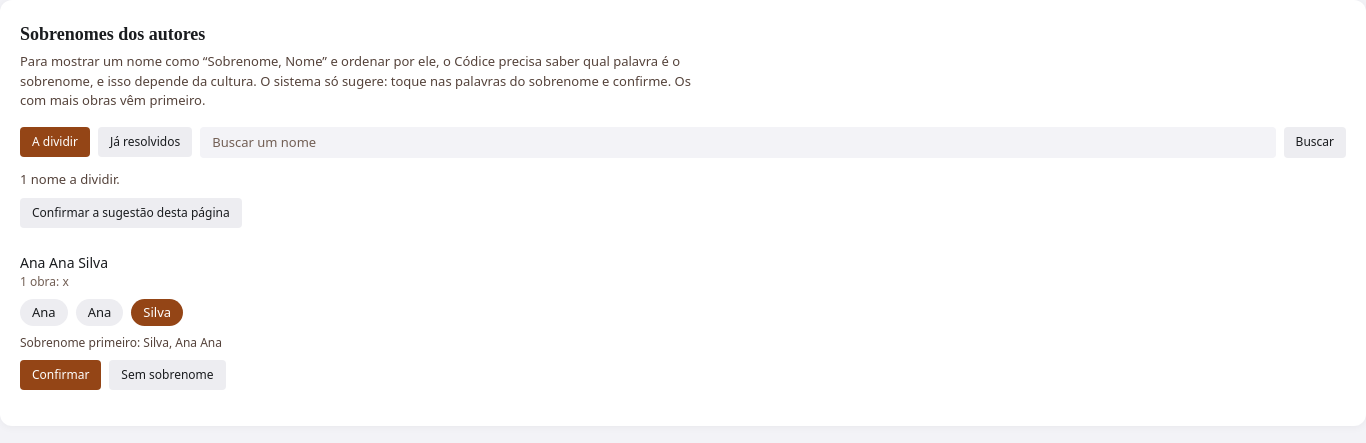
Test case: PersonNames: the names to divide › tells apart two equal words of a name by their place
The image size is (1366, 443).
Click the 2nd button "Ana" at (99, 312), box [76,298,123,326]
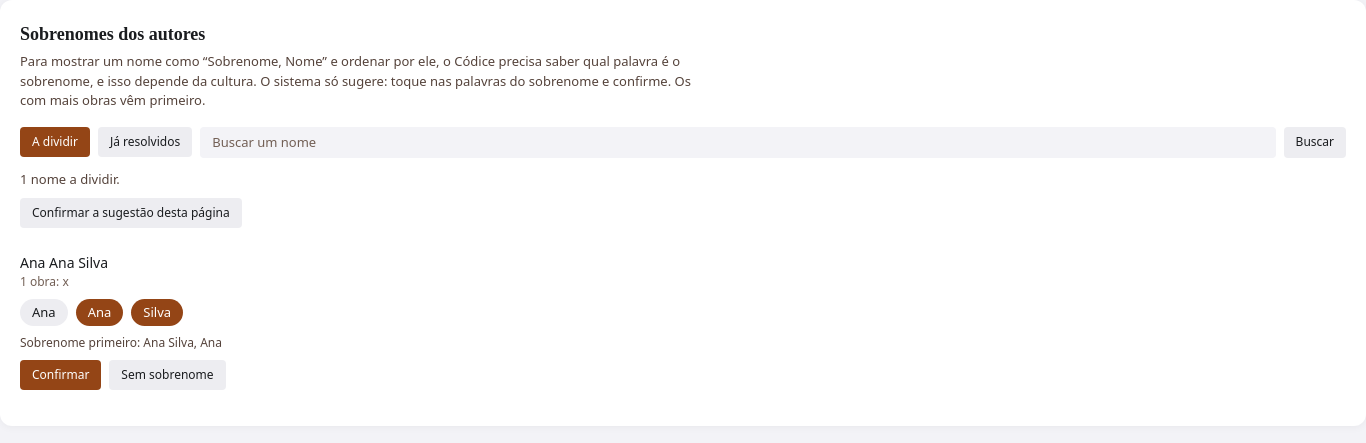
Check: the list item shows "Sobrenome primeiro: Ana Silva, Ana", box [20,334,222,351]
